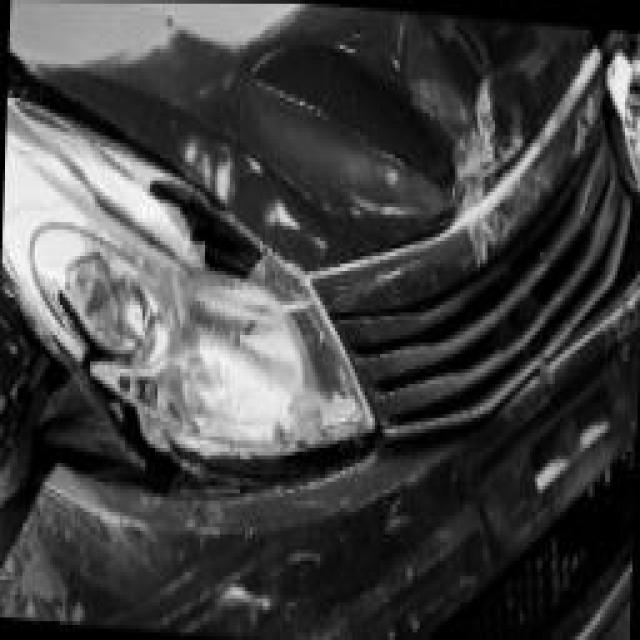Bonnet: (10, 0, 640, 466)
Bumper: (0, 256, 640, 640)
Light: (1, 87, 379, 439)
